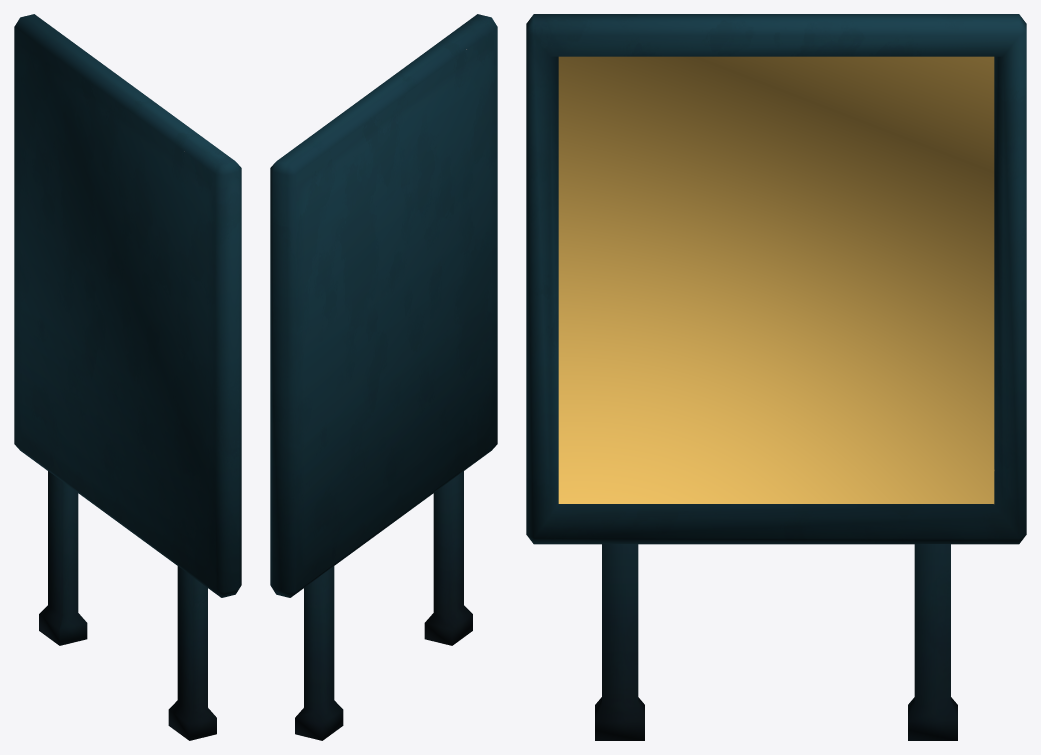
File: billboard.fbx
The picture shows the model from 3 angles, left to right: view 1: azimuth 30°, elevation 25°; view 2: azimuth 150°, elevation 25°; view 3: azimuth 270°, elevation 25°; orthographic projection. The views are drawn at different scales.
Parts seen in each view (by area): view 1: billboard; view 2: billboard; view 3: billboard.
Part boxes in pixels (bbox=[...]): billboard: bbox=[14, 14, 241, 740]; billboard: bbox=[270, 14, 497, 740]; billboard: bbox=[526, 14, 1026, 740].
Bounding box in the file's own units: 44.1 × 576 × 908.
1 material, 1 textured.
